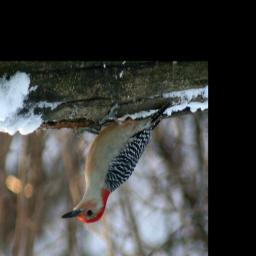Woodpecker: (59, 103, 171, 223)
